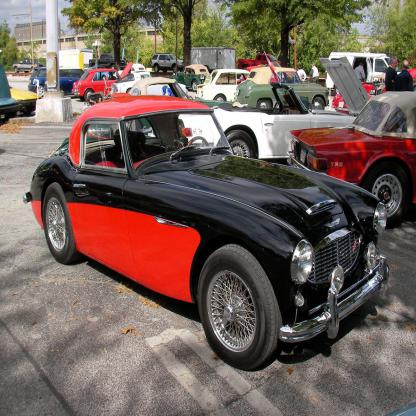Car: (0, 56, 415, 371)
